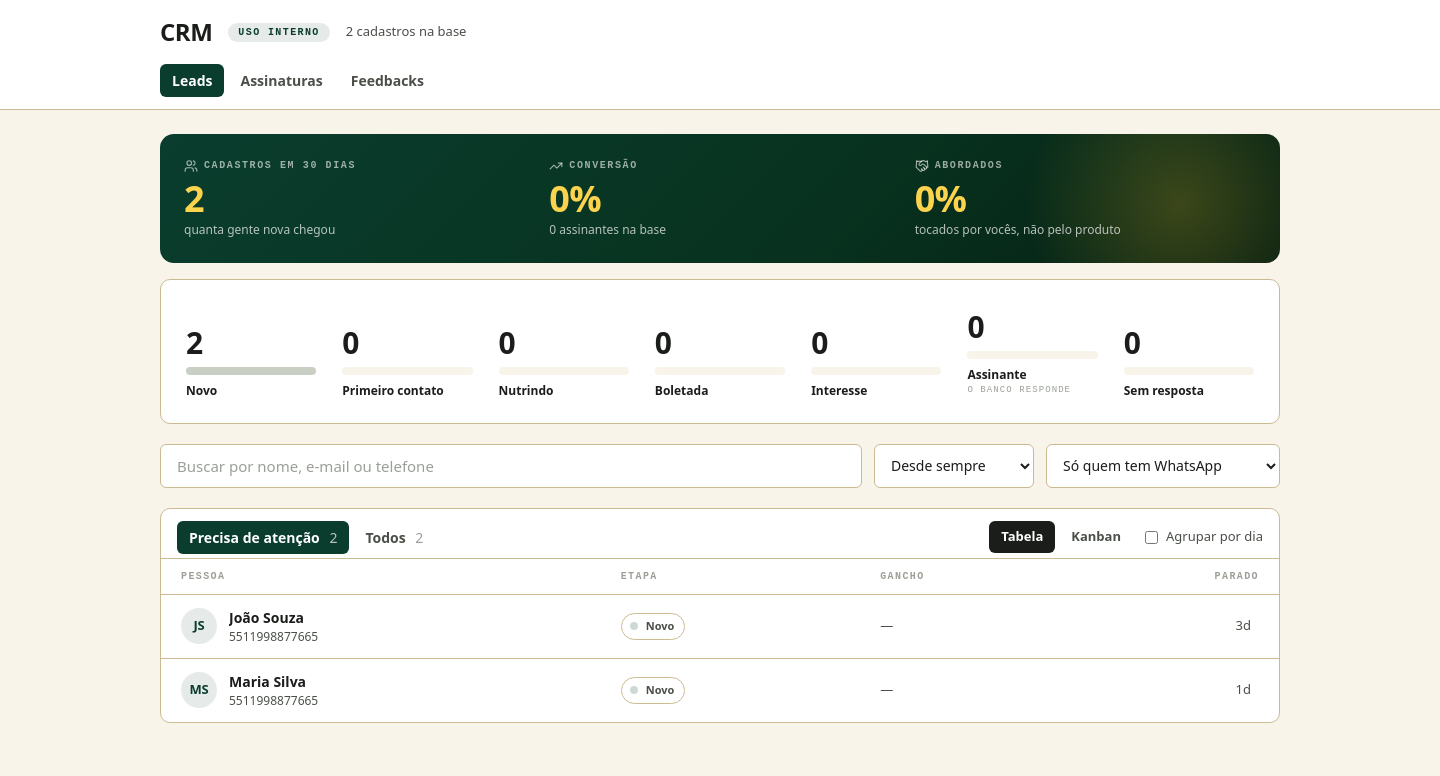
PainelCrm · a lista › agrupar por dia é uma chave à parte, que se combina com o recorte
Click the checkbox labelled "Agrupar por dia" at [1152, 537], box [1145,530,1158,544]
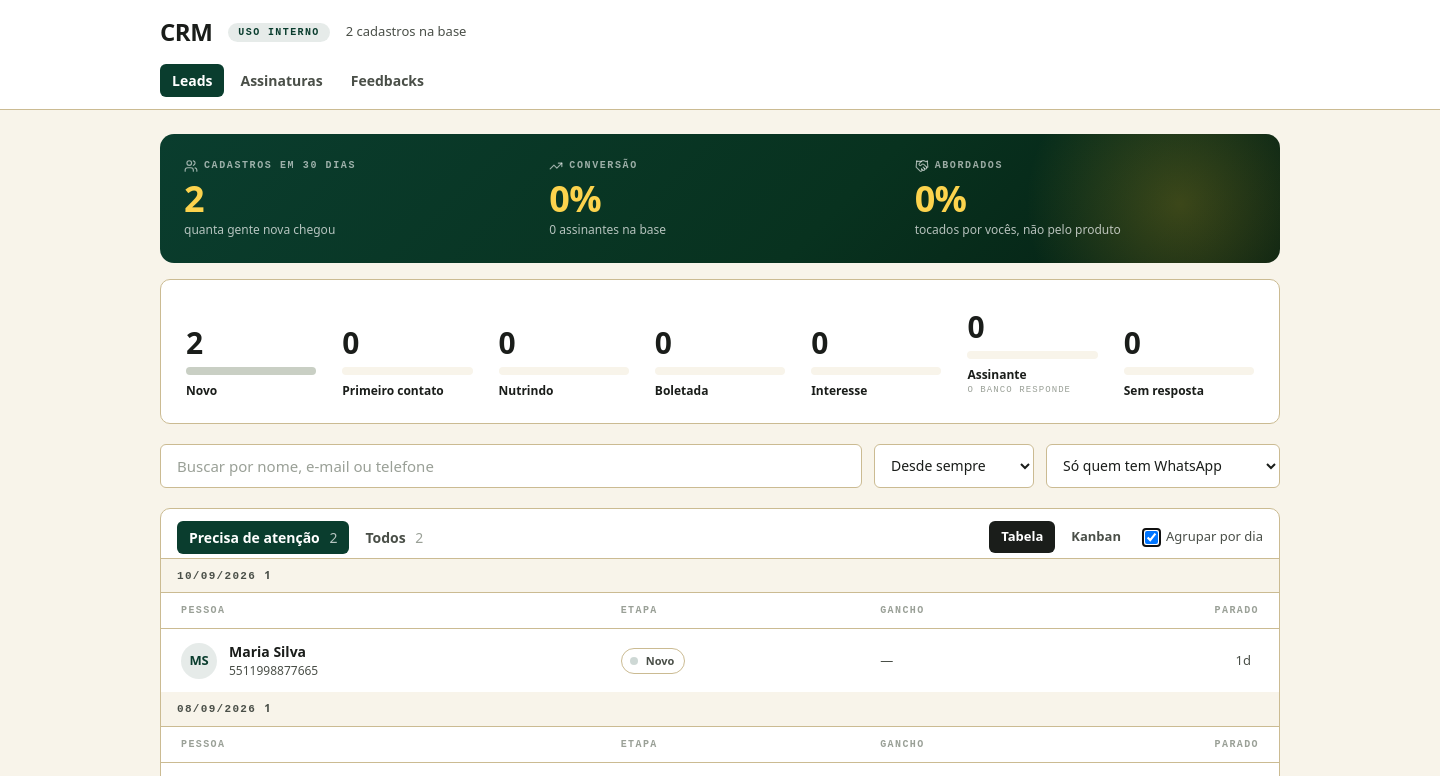
expect the heading "10/09/20261" is shown: met, box [161,558,1279,593]
expect the heading "08/09/20261" is shown: met, box [161,692,1279,726]
